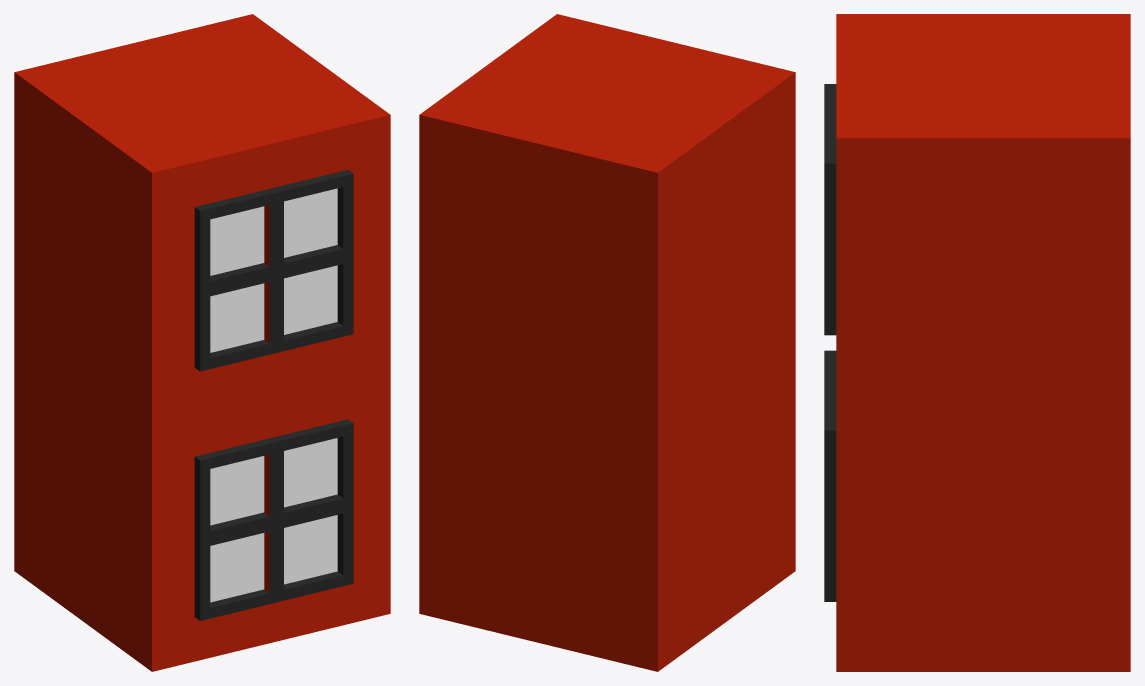
Rendered from WindowSolo.gltf.
3 views of the same model, side by side, from view 1: azimuth 30°, elevation 25°; view 2: azimuth 150°, elevation 25°; view 3: azimuth 270°, elevation 25° (orthographic). The views are drawn at different scales.
Visible parts, largest first — view 1: B3; view 2: B3; view 3: B3.
Boxes of the visible parts, box(x1,y1,x2,y2) form: B3: box(14, 14, 390, 671); B3: box(419, 14, 795, 671); B3: box(824, 14, 1130, 671).
Size of the model in its own units: 2 by 4 by 2.08.
